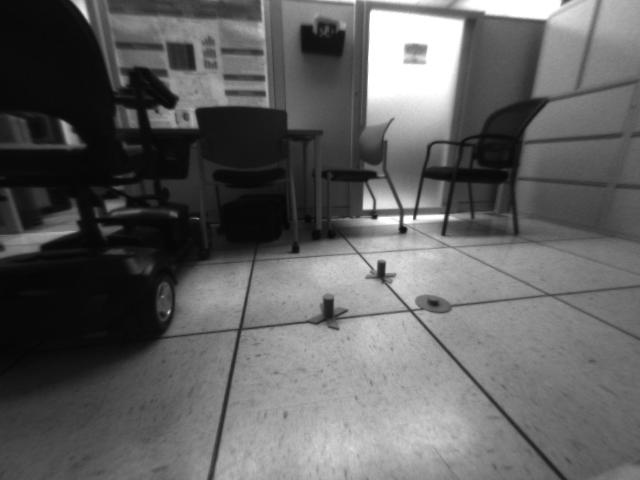X: (307, 293, 347, 329), (366, 259, 397, 284)
